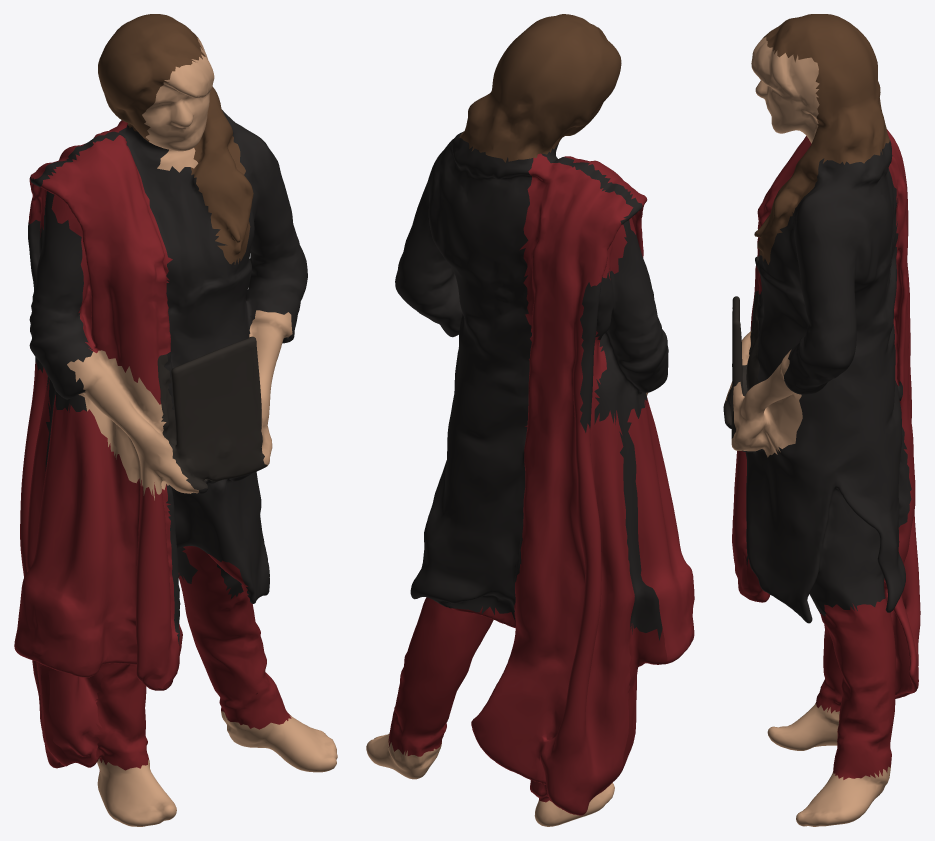
File: nepali_woman.glb
3 views of the same model, side by side, from view 1: azimuth 30°, elevation 25°; view 2: azimuth 150°, elevation 25°; view 3: azimuth 270°, elevation 25° (orthographic). The views are drawn at different scales.
Parts seen in each view (by area): view 1: saal, kurtha, suruwal, hair, kitab, hands, feet, head; view 2: saal, kurtha, hair, suruwal, feet; view 3: kurtha, hair, suruwal, saal, feet, hands, head, kitab.
Part boxes in pixels (x1,y1,x2,y2): saal: (14,120,179,771); kurtha: (28,110,307,645); suruwal: (40,546,291,770); hair: (98,14,253,264); kitab: (157,336,267,490); hands: (67,310,292,500); feet: (97,711,337,826); head: (142,38,214,172); saal: (471,153,694,815); kurtha: (395,131,668,640); hair: (459,14,621,162); suruwal: (388,597,667,776); feet: (366,733,614,826); kurtha: (724,140,911,623); hair: (754,14,889,264); suruwal: (738,558,895,779); saal: (732,129,920,698); feet: (767,703,891,826); hands: (724,331,802,457); head: (751,37,819,143); kitab: (723,290,759,438).
Size of the model in its own units: 0.6639 by 1.6 by 0.3869.
